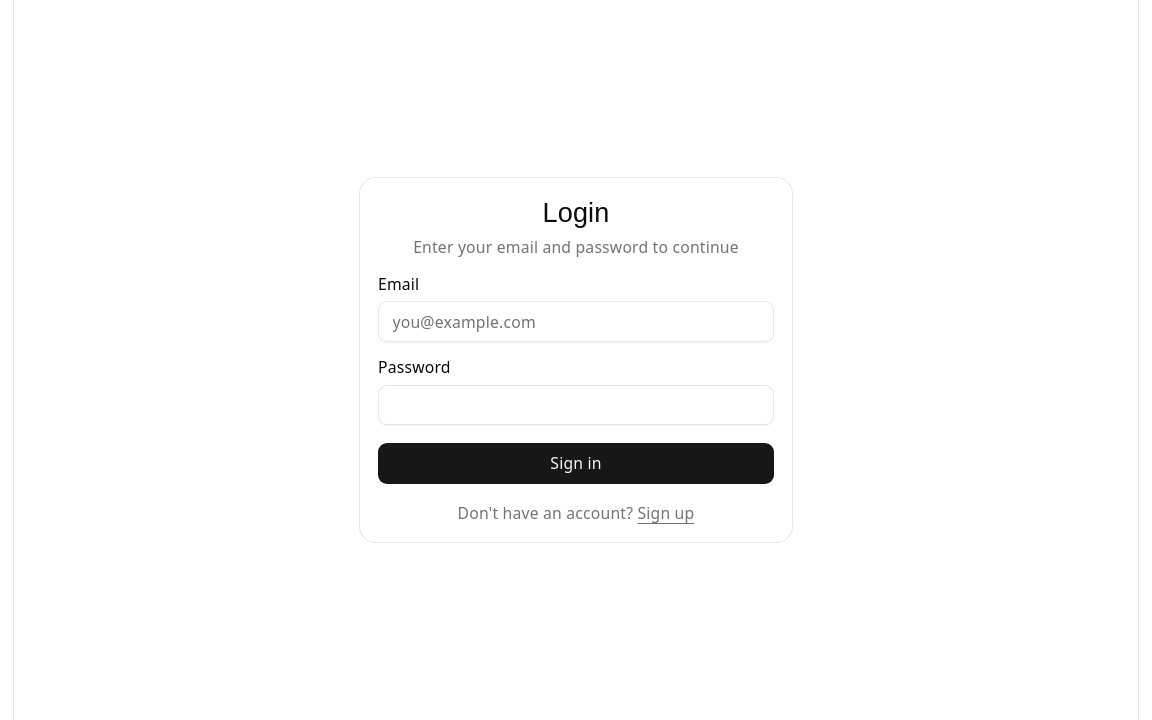
Test case: LoginForm › shows an error for invalid email format
The width and height of the screenshot is (1152, 720).
Type "not-an-email" into the field labelled "Email".
click(576, 322); type("not-an-email")  # box [378,302,774,342]
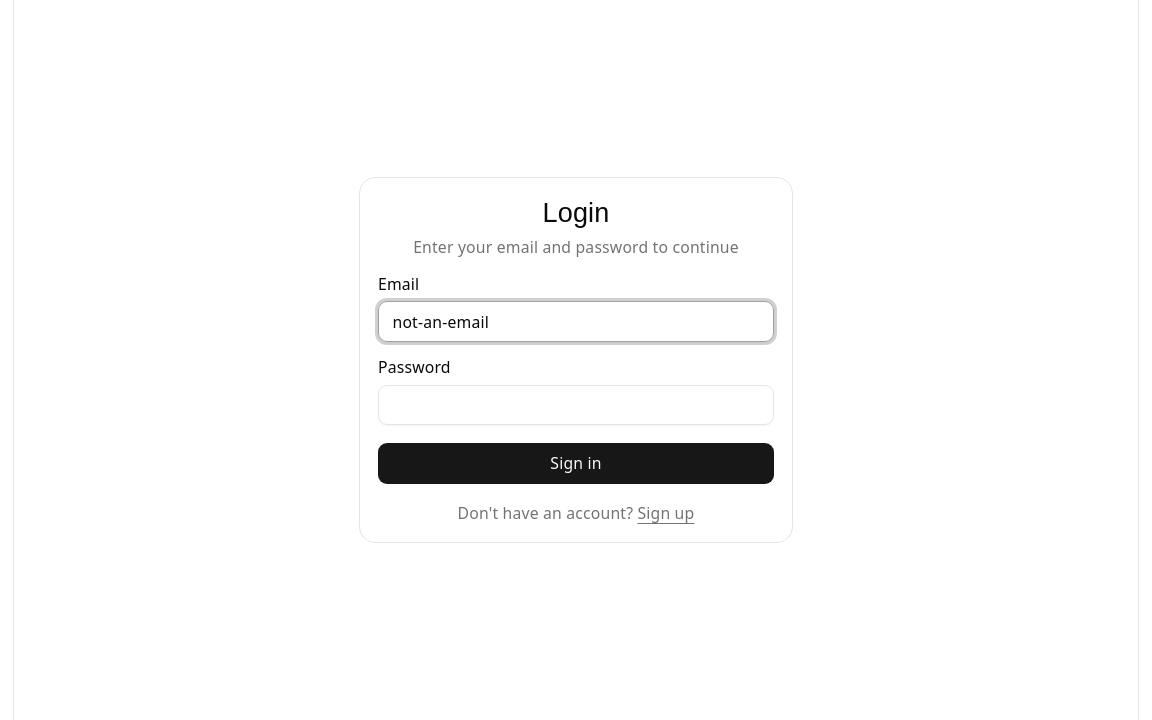
Type "password123" into the password field labelled "Password".
click(576, 405); type("password123")  # box [378,385,774,425]
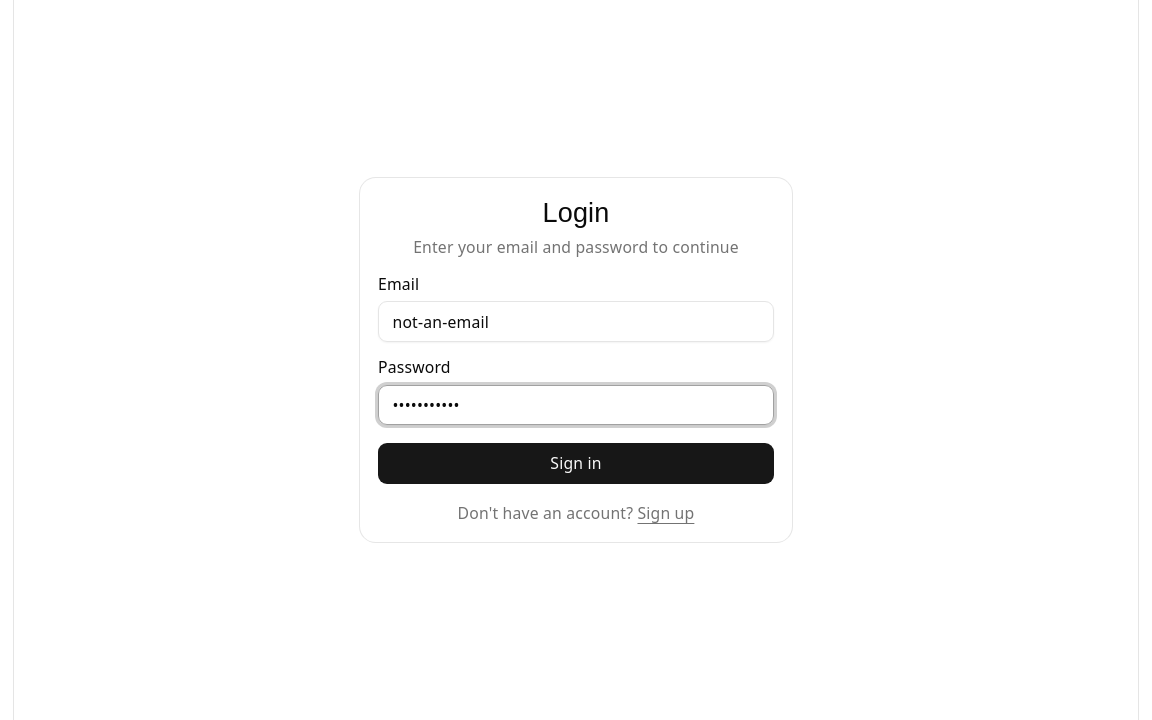
Click the button "Sign in".
click(576, 463)  # box [378,443,774,484]
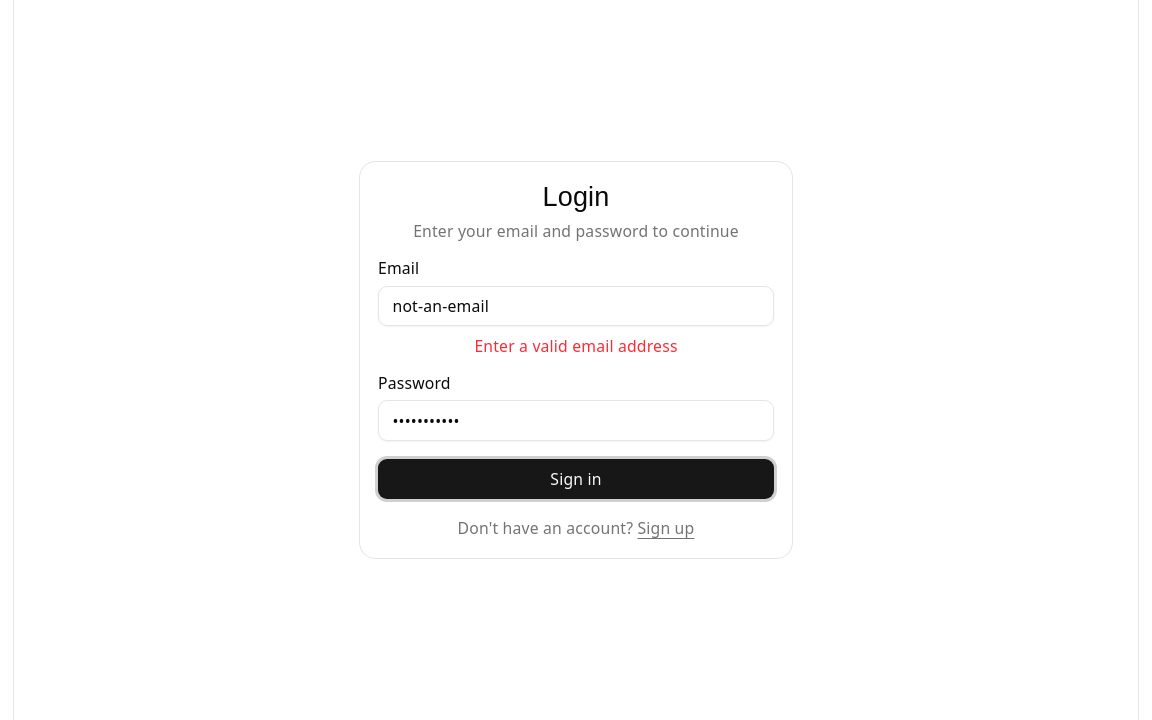
Result: the text "Enter a valid email address" is shown at [474,335,678,357]
